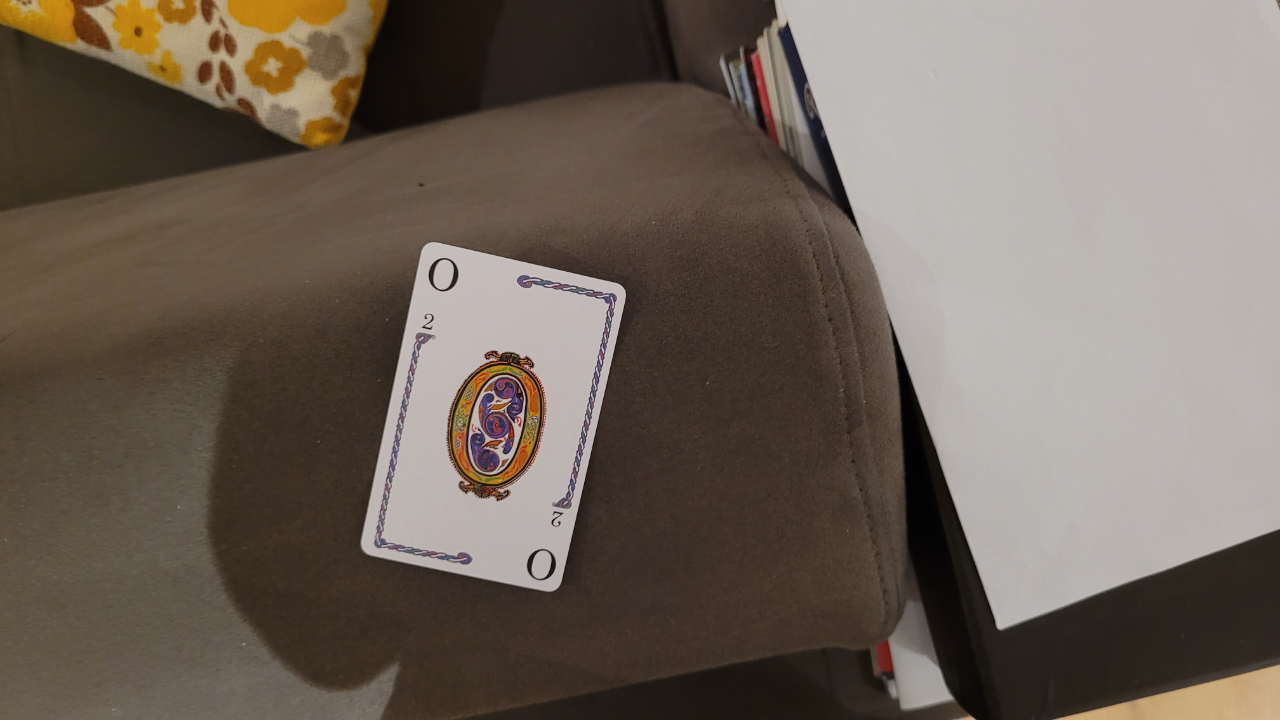quiddler_card: (358, 233, 629, 593)
